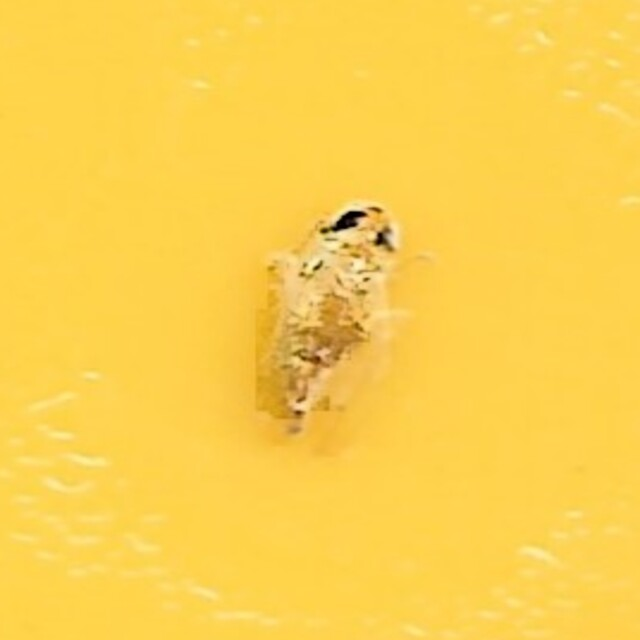Hemiptera: (239, 196, 401, 444)
